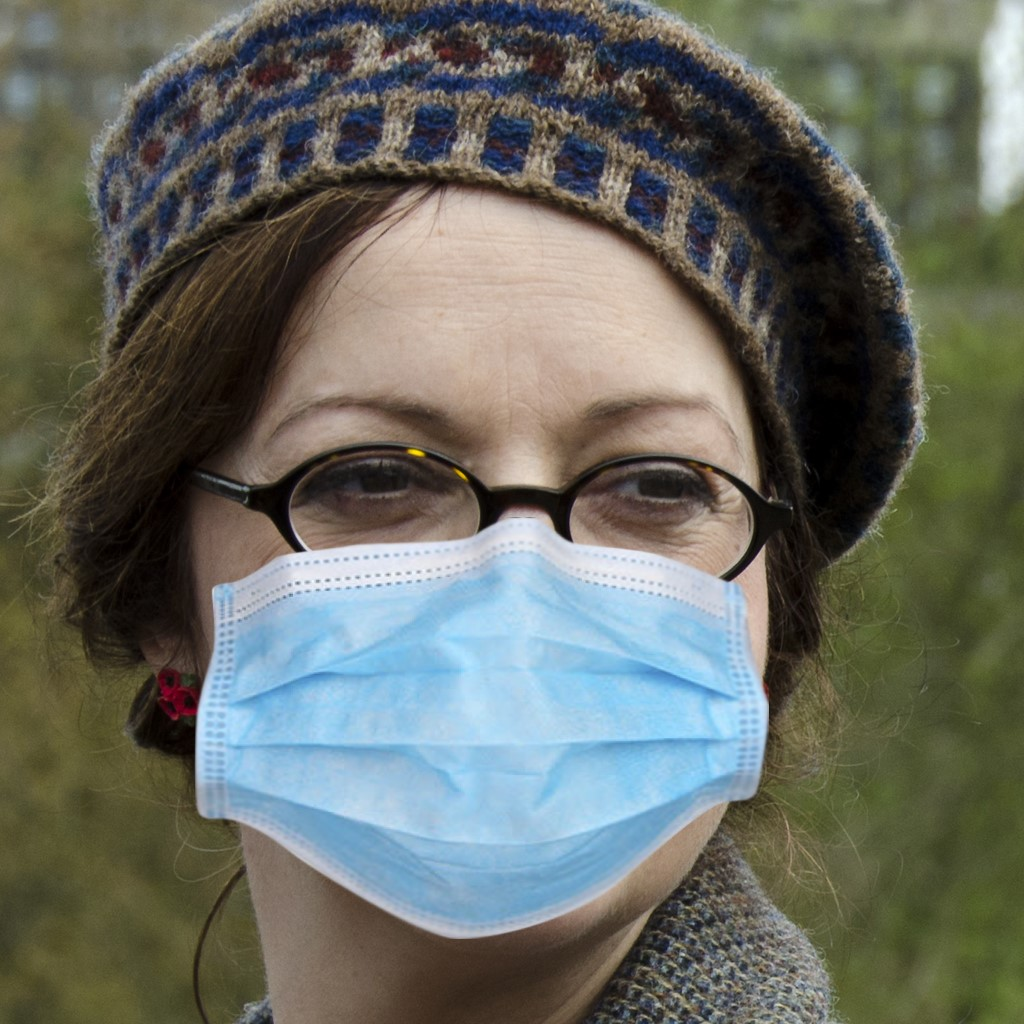con_mascara: (181, 170, 783, 937)
